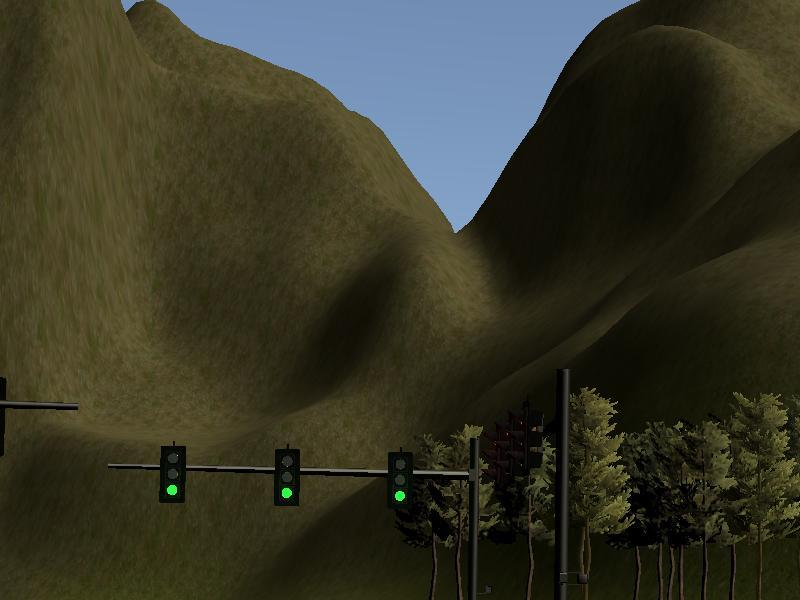Green: (387, 451, 413, 508), (274, 447, 300, 504), (159, 444, 185, 501)
